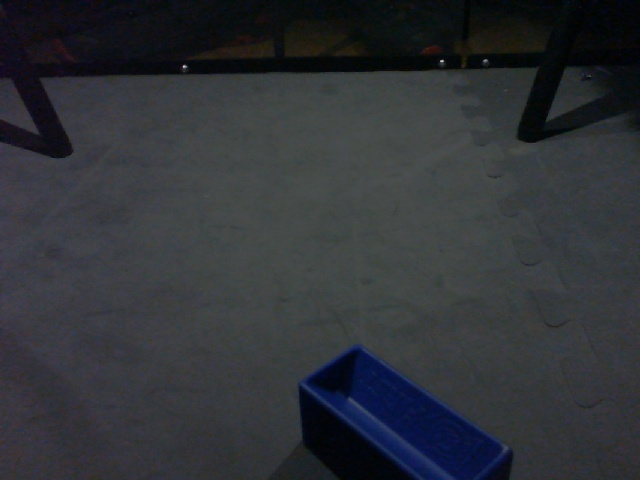BlueSample: (291, 339, 516, 480)
